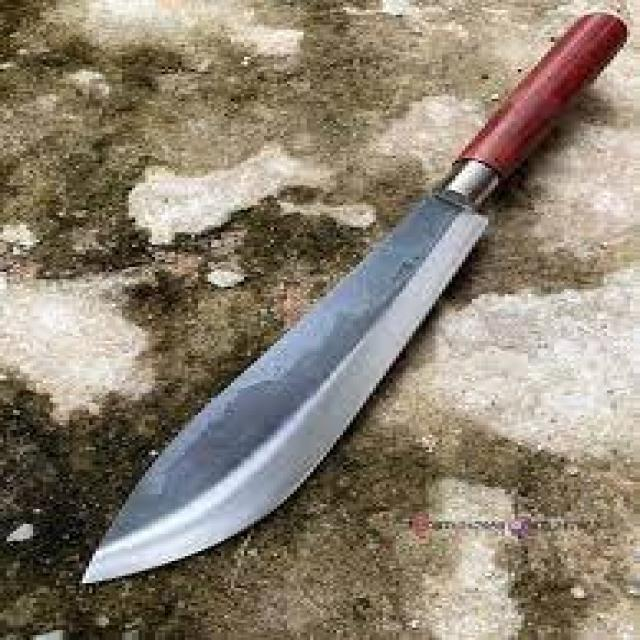eto: (68, 8, 638, 596)
